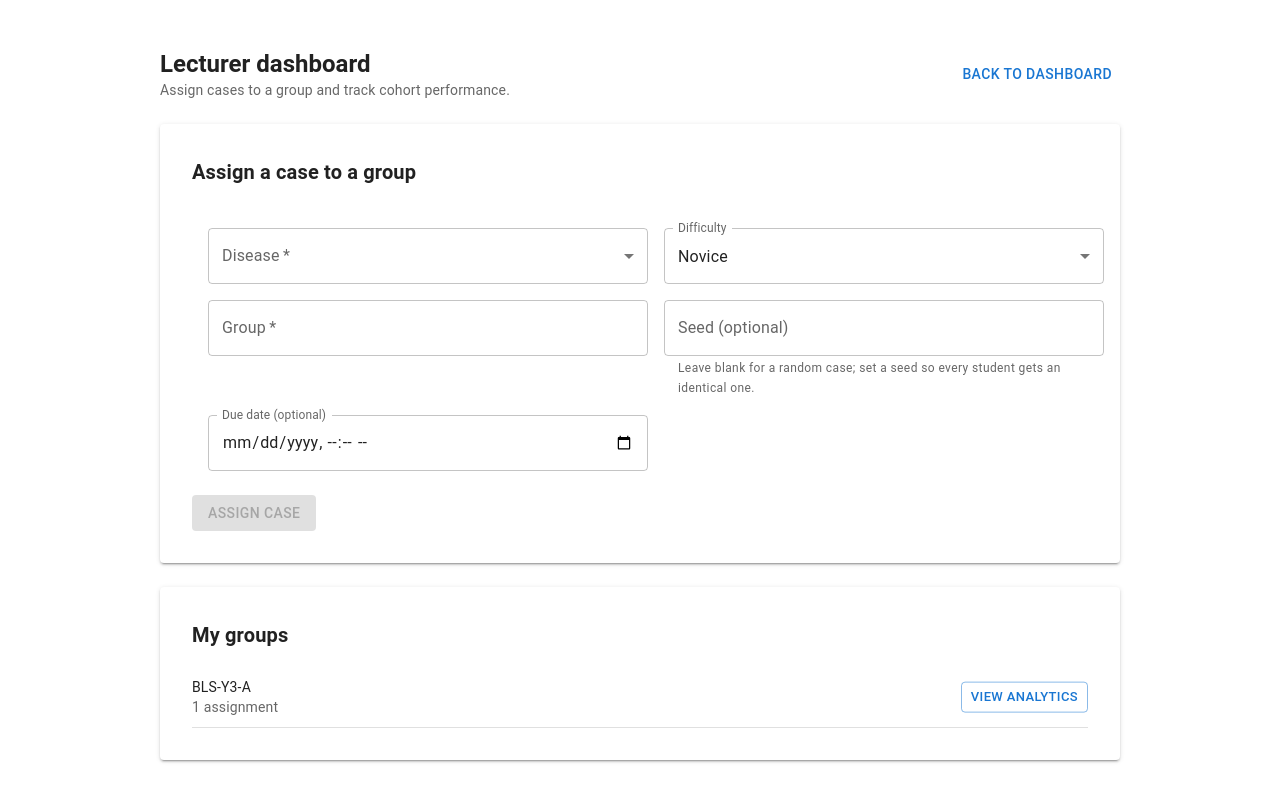
Scenario: LecturerDashboardPage › shows an error state when analytics fail to load
Expected: the text "BLS-Y3-A" is shown, [192, 679, 251, 695]
Click the button "View analytics": (1024, 697) [961, 682, 1088, 713]
(page scrolled)
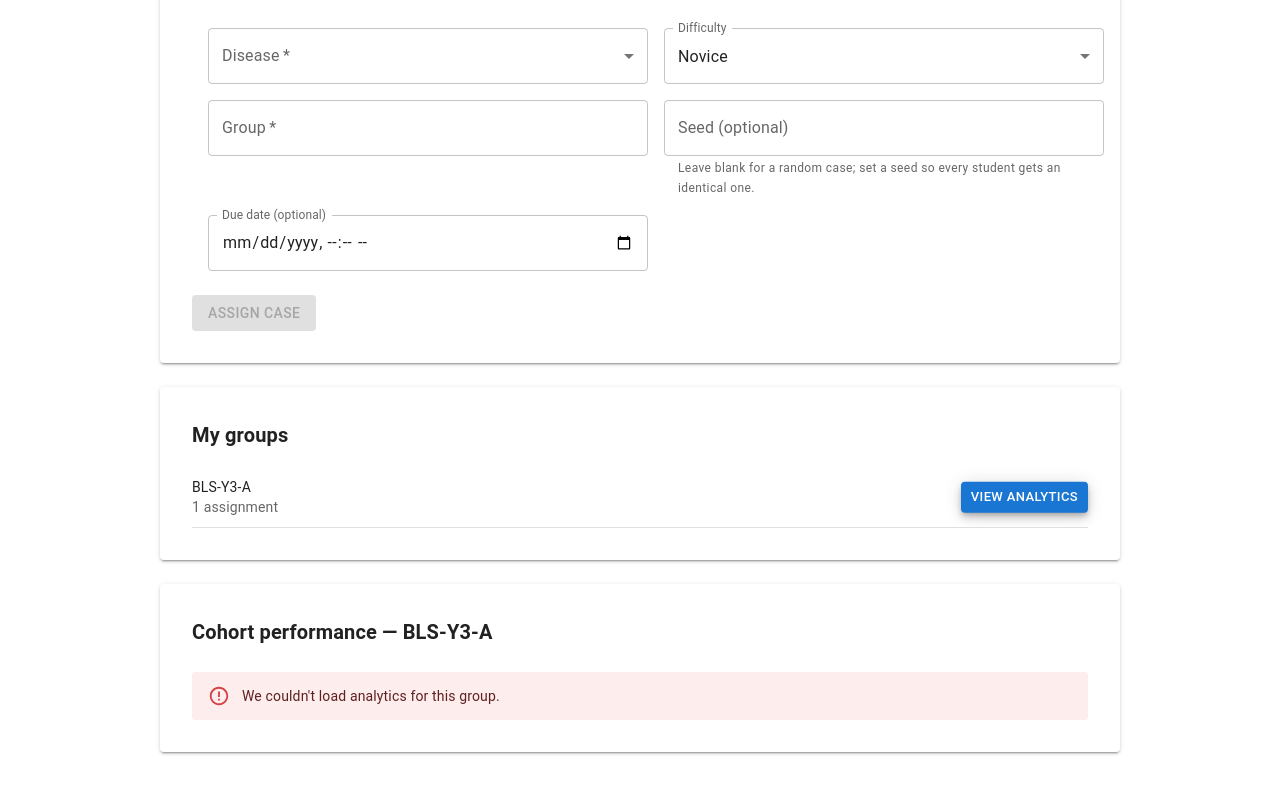
Now the text "We couldn't load analytics for this group." is shown, box [242, 688, 500, 704]
